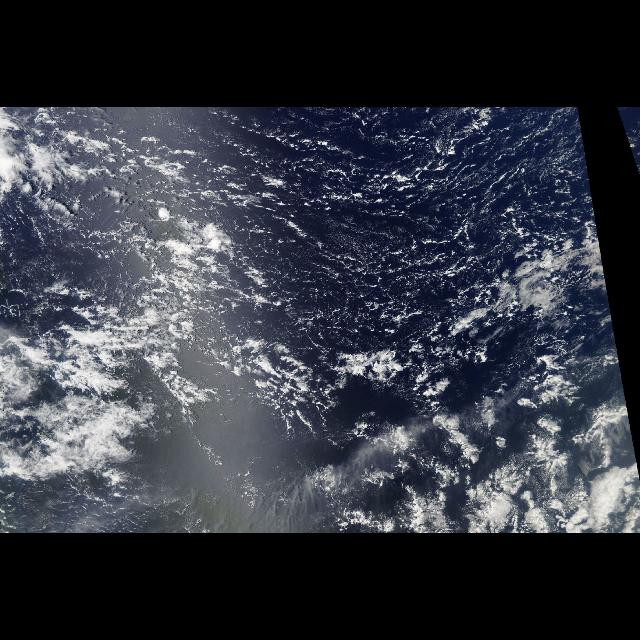Gravel: (75, 112, 629, 406), (620, 117, 636, 163)
